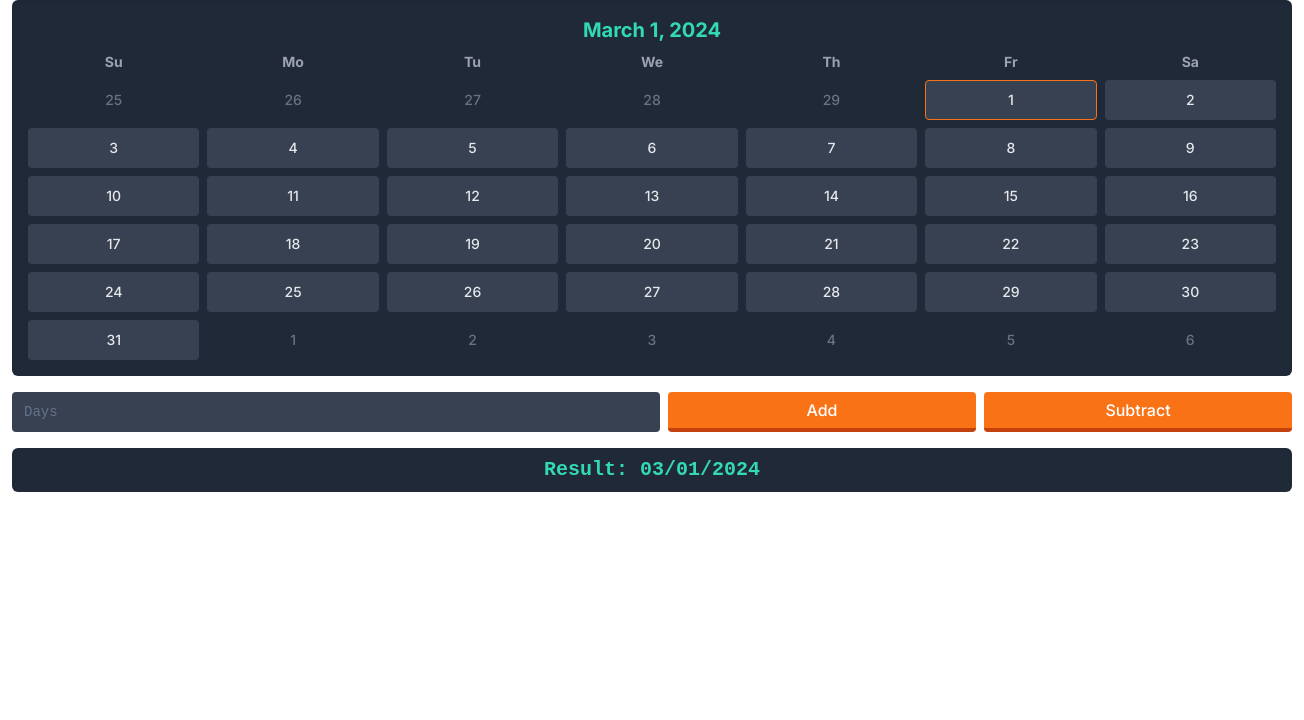
Test: DateCalculator › Date Calculator Controls › Date Calculation › should subtract days correctly
Type "2" into the number field at (336,412), box [12, 392, 660, 432]
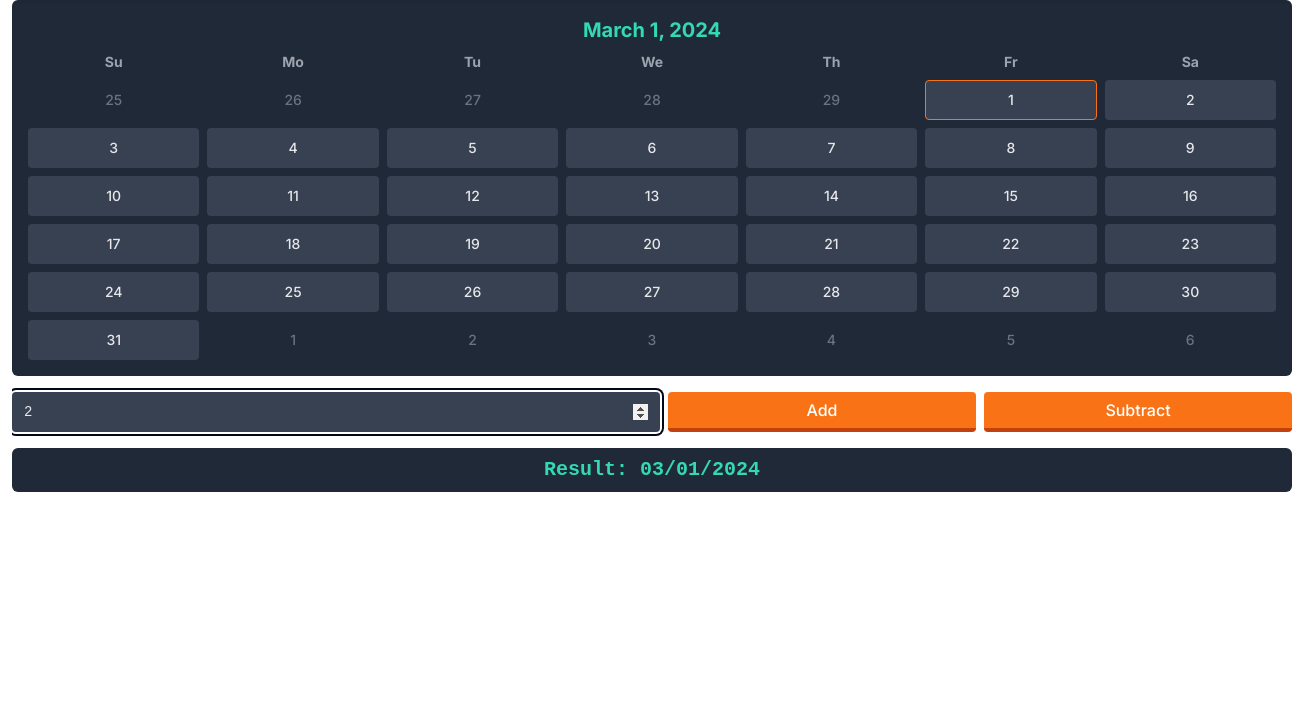
Click the button "Subtract" at (1138,412), box [984, 392, 1292, 432]
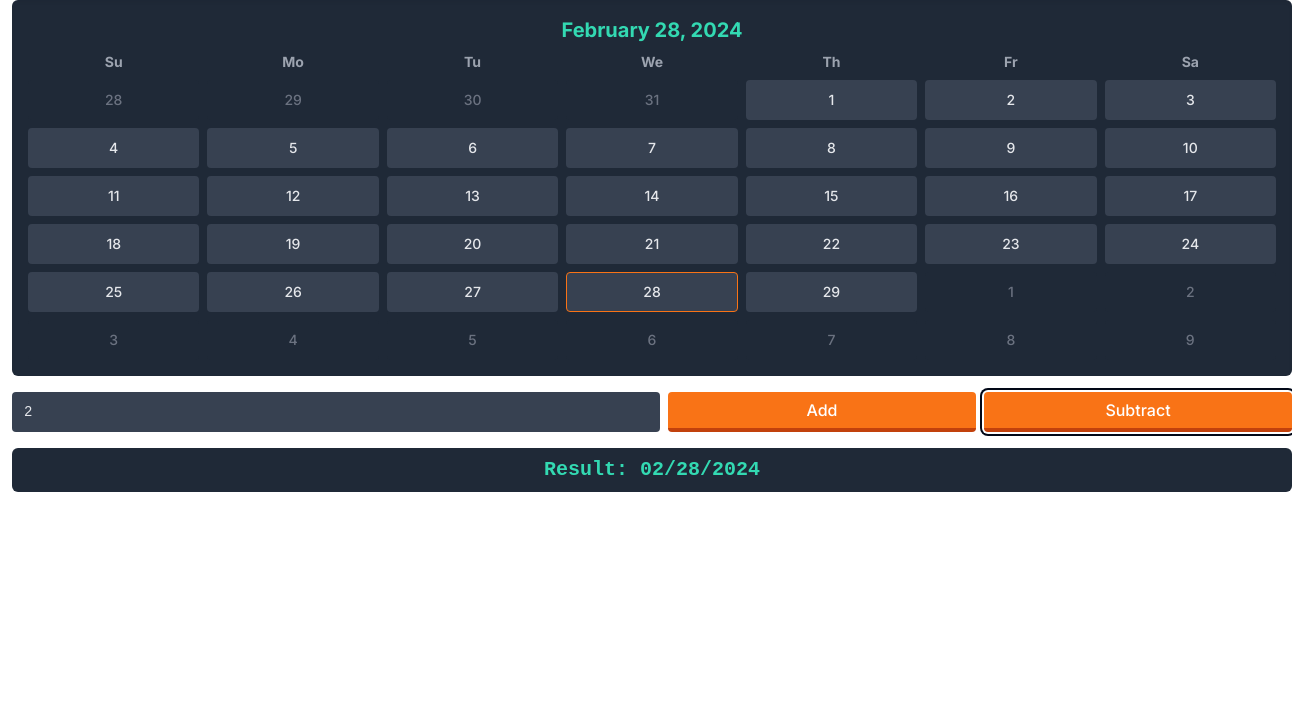
Result: the text "February 28, 2024" is shown at [562, 18, 742, 42]
